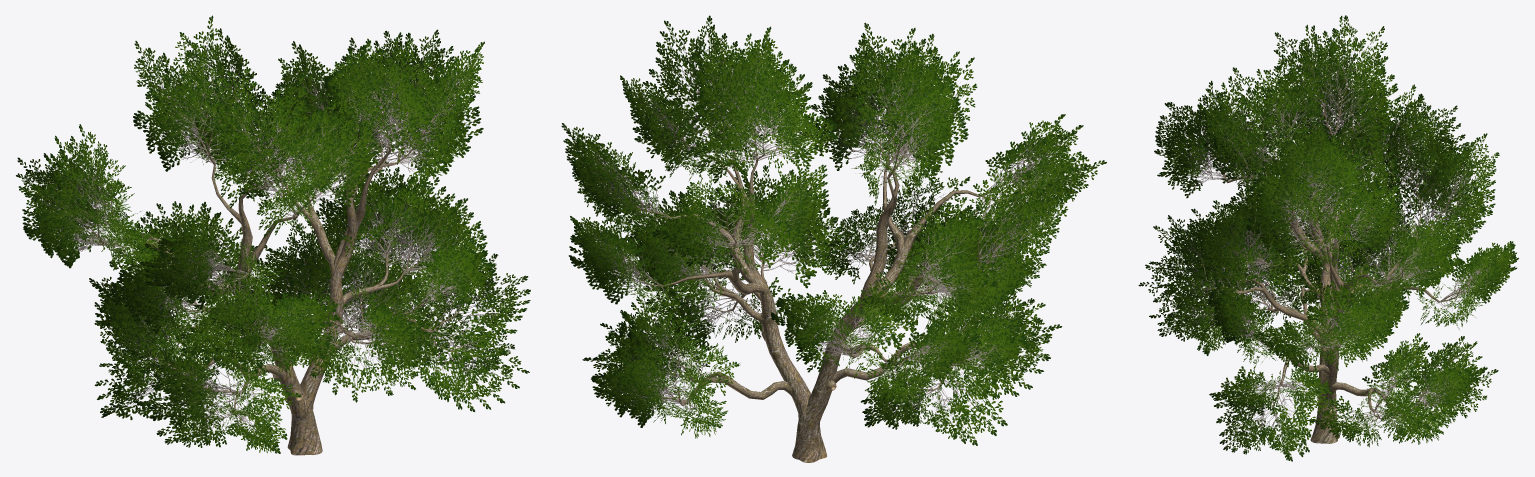
The model's file is Oak.obj.
3 views of the same model, side by side, from view 1: azimuth 30°, elevation 25°; view 2: azimuth 150°, elevation 25°; view 3: azimuth 270°, elevation 25° (orthographic). The views are drawn at different scales.
Parts seen in each view (by area): view 1: oak leaf, mossybark02; view 2: oak leaf, mossybark02; view 3: oak leaf, mossybark02.
Part boxes in pixels (x1=…): oak leaf: x1=16, y1=15, x2=530, y2=453; mossybark02: x1=71, y1=71, x2=470, y2=455; oak leaf: x1=561, y1=15, x2=1106, y2=445; mossybark02: x1=620, y1=94, x2=1035, y2=462; oak leaf: x1=1138, y1=15, x2=1518, y2=461; mossybark02: x1=1192, y1=66, x2=1466, y2=443.
Bounding box in the file's own units: 1062 × 949 × 877.
3 materials, 3 textured.
